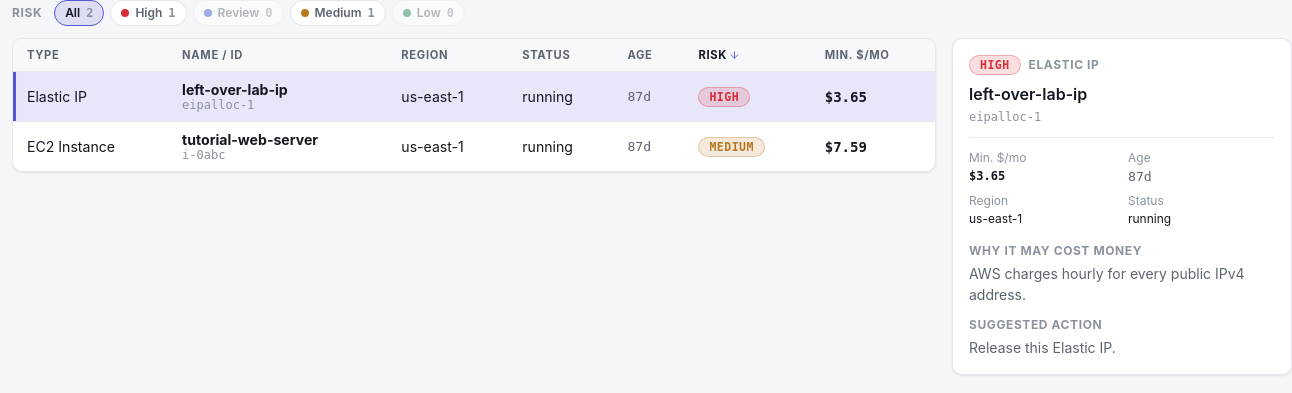
ResourceTable master/detail › moves the inspector to the row you click
Click the row that starts with "EC2 Instance": click(71, 146) [13,122,935,171]
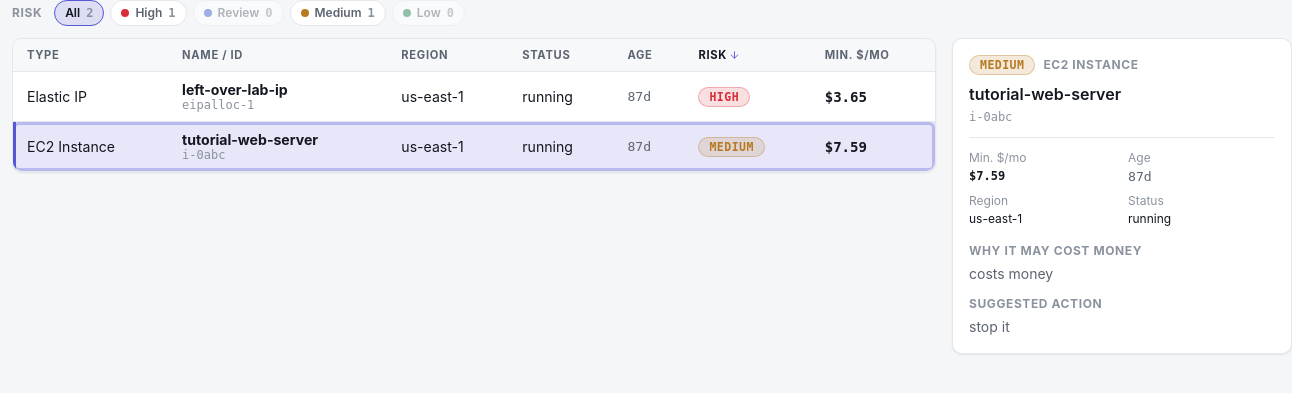
Expected: the text "stop it" is shown, [969,318,1010,336]
